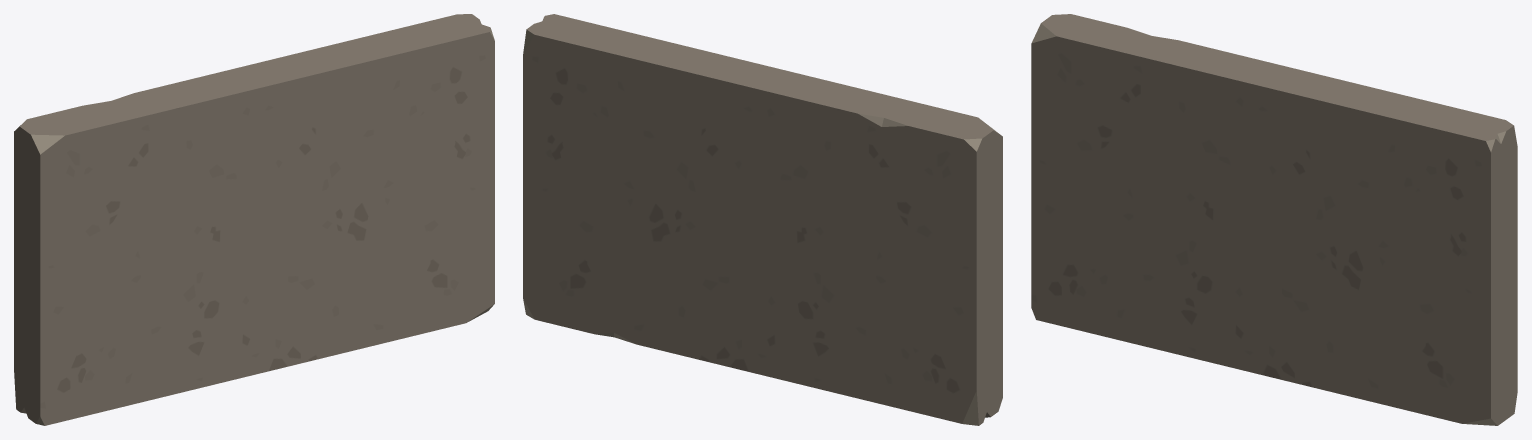
The model's file is SM_Bld_Concrete_Wall_02.glb.
3 views of the same model, side by side, from view 1: azimuth 30°, elevation 25°; view 2: azimuth 150°, elevation 25°; view 3: azimuth 330°, elevation 25° (orthographic).
Parts seen in each view (by area): view 1: SM_Bld_Concrete_Wall_02; view 2: SM_Bld_Concrete_Wall_02; view 3: SM_Bld_Concrete_Wall_02.
Boxes of the visible parts, x1=… form: SM_Bld_Concrete_Wall_02: x1=14, y1=14, x2=494, y2=425; SM_Bld_Concrete_Wall_02: x1=523, y1=14, x2=1002, y2=425; SM_Bld_Concrete_Wall_02: x1=1031, y1=14, x2=1517, y2=425.
Size of the model in its own units: 5 by 3 by 0.5.
Materials: 1 (1 with a texture image).
